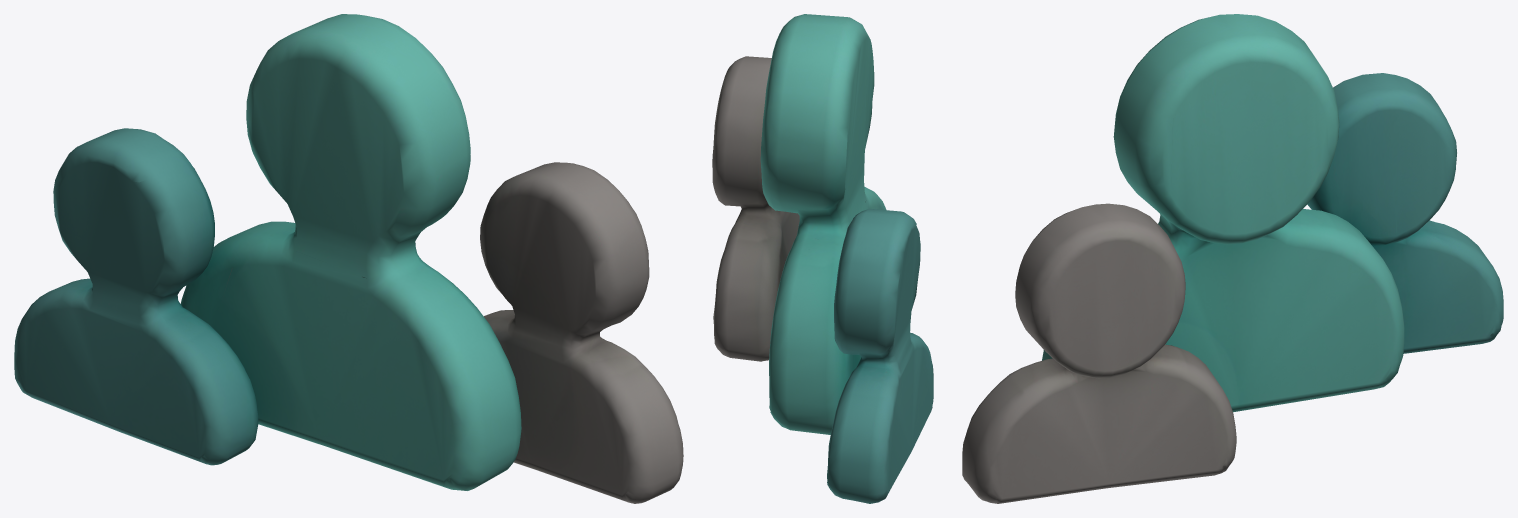
Rendered from icon-group.glb.
3 renders of one model, left to right at view 1: azimuth 30°, elevation 25°; view 2: azimuth 150°, elevation 25°; view 3: azimuth 270°, elevation 25°, orthographic. The views are drawn at different scales.
Visible parts, largest first — view 1: tripo_node_kodyurd-model-49____________________; view 2: tripo_node_kodyurd-model-49____________________; view 3: tripo_node_kodyurd-model-49____________________.
Boxes of the visible parts, x1,y1,x2,y2 form: tripo_node_kodyurd-model-49____________________: [14, 14, 683, 503]; tripo_node_kodyurd-model-49____________________: [712, 14, 933, 503]; tripo_node_kodyurd-model-49____________________: [962, 14, 1503, 503].
Bounding box in the file's own units: 0.8223 × 0.8105 × 0.998.
Materials: 1 (1 with a texture image).
